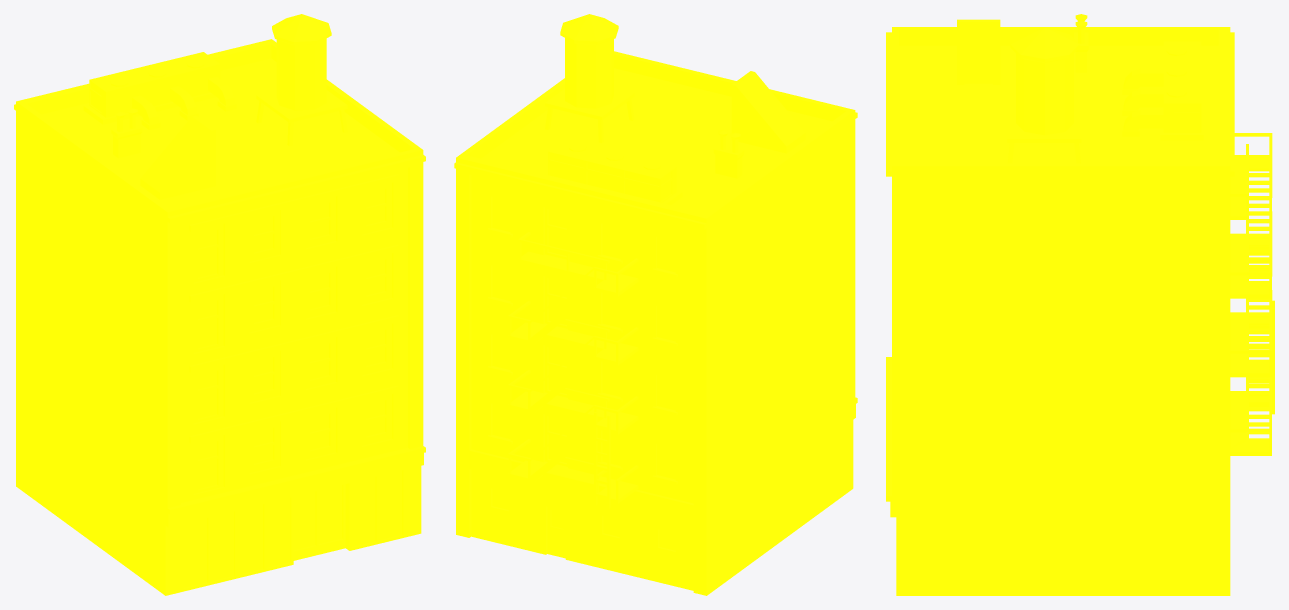
File: building-block-4floor-back.glb
The picture shows the model from 3 angles, left to right: view 1: azimuth 30°, elevation 25°; view 2: azimuth 150°, elevation 25°; view 3: azimuth 270°, elevation 25°; orthographic projection. The views are drawn at different scales.
Parts seen in each view (by area): view 1: building-block-4floor-back; view 2: building-block-4floor-back; view 3: building-block-4floor-back.
Part boxes in pixels (x1=…): building-block-4floor-back: x1=14, y1=14, x2=425, y2=595; building-block-4floor-back: x1=454, y1=14, x2=857, y2=595; building-block-4floor-back: x1=886, y1=14, x2=1274, y2=595.
Size of the model in its own units: 11.4 by 20.61 by 13.45.
Materials: 1 (1 with a texture image).
